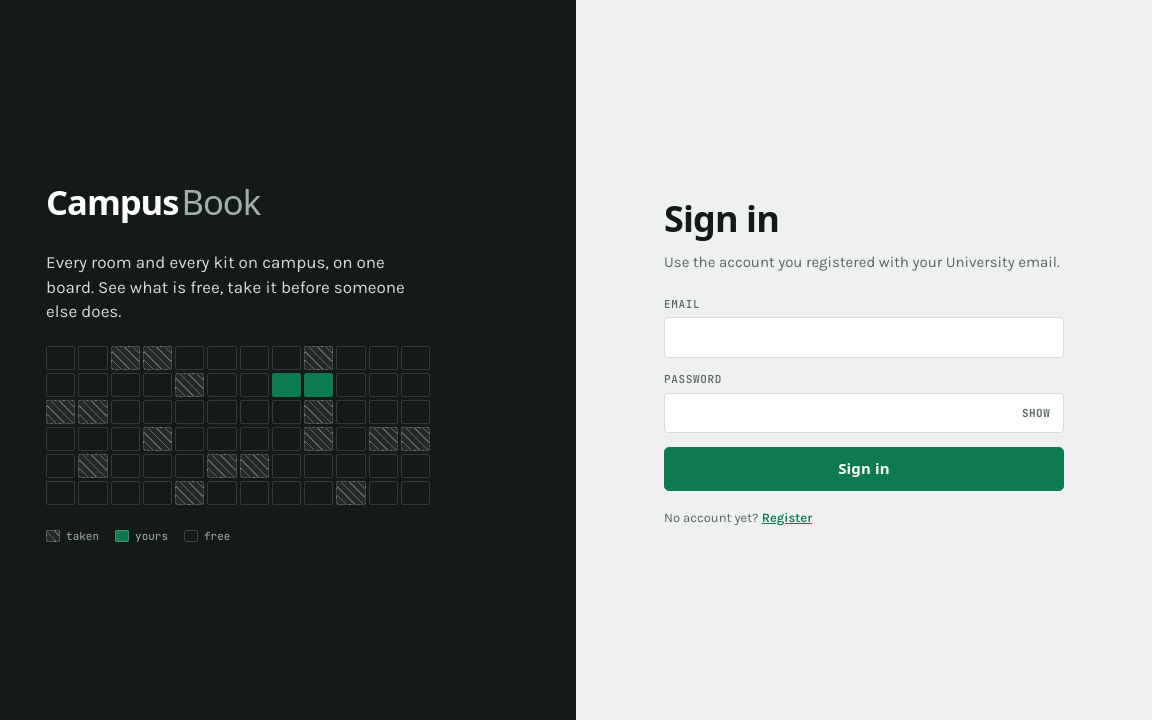
Test: booking a resource end to end › explains a mismatched password instead of just failing
Step 1. Click the link "Register" → [787, 518], box [762,510,812,525]
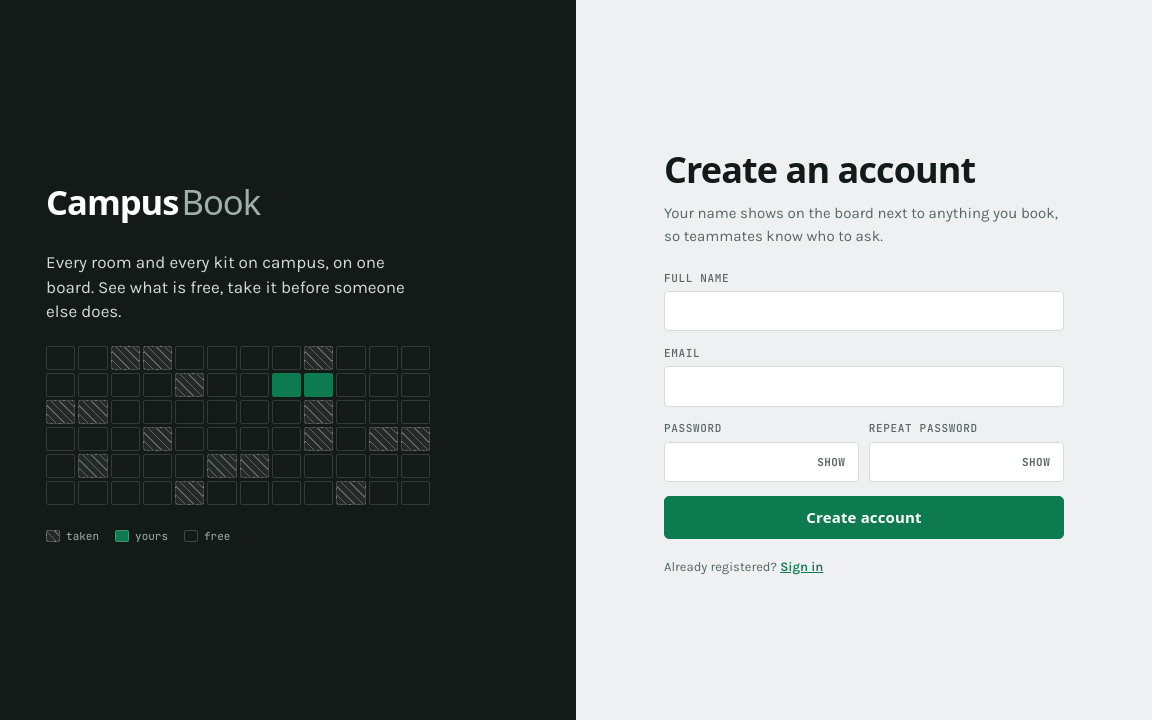
Step 2. Type "Shakya P" into the field labelled "Full name" → [864, 311], box [664,291,1064,331]
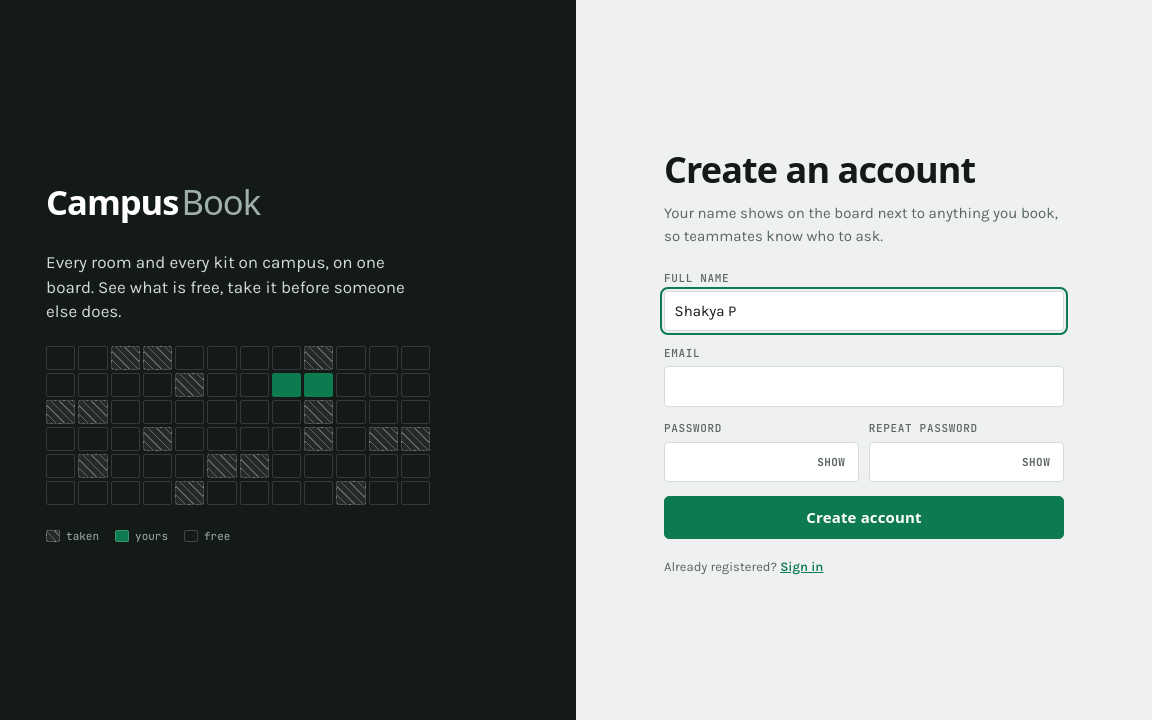
Step 3. Type "shakya@students.nsbm.ac.lk" into the field labelled "Email" → [864, 387], box [664,366,1064,407]
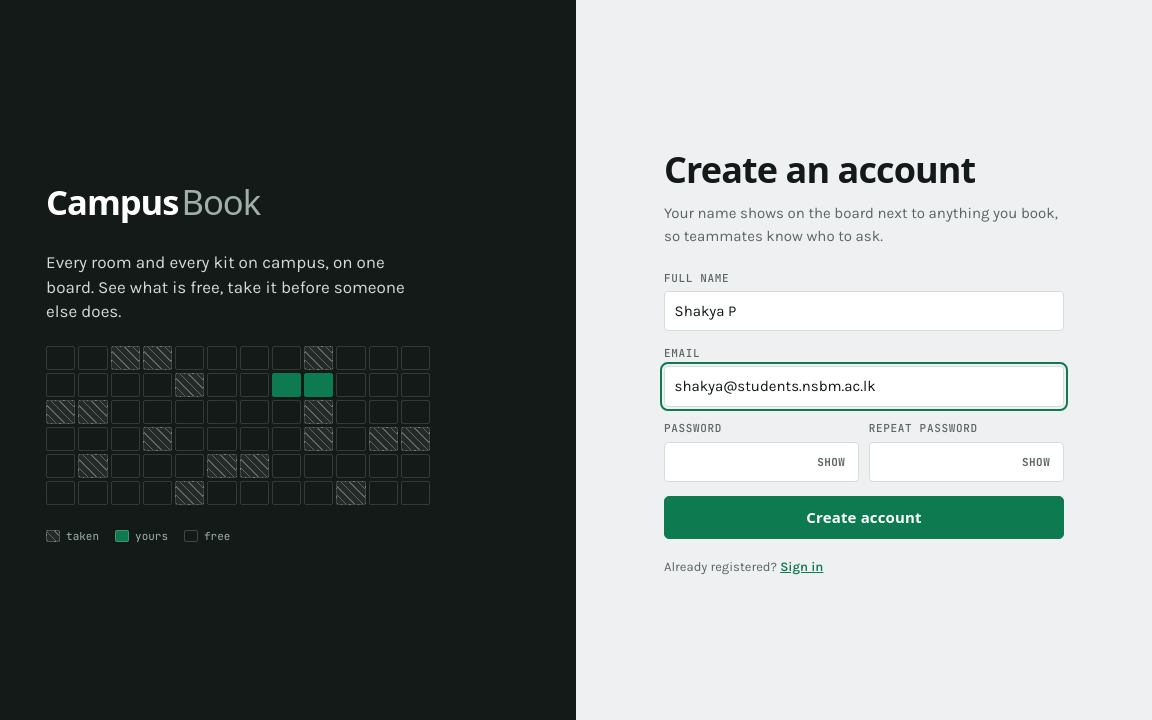
Step 4. Type "correct horse" into the password field labelled "Password Show" → [762, 462], box [664,442,859,482]
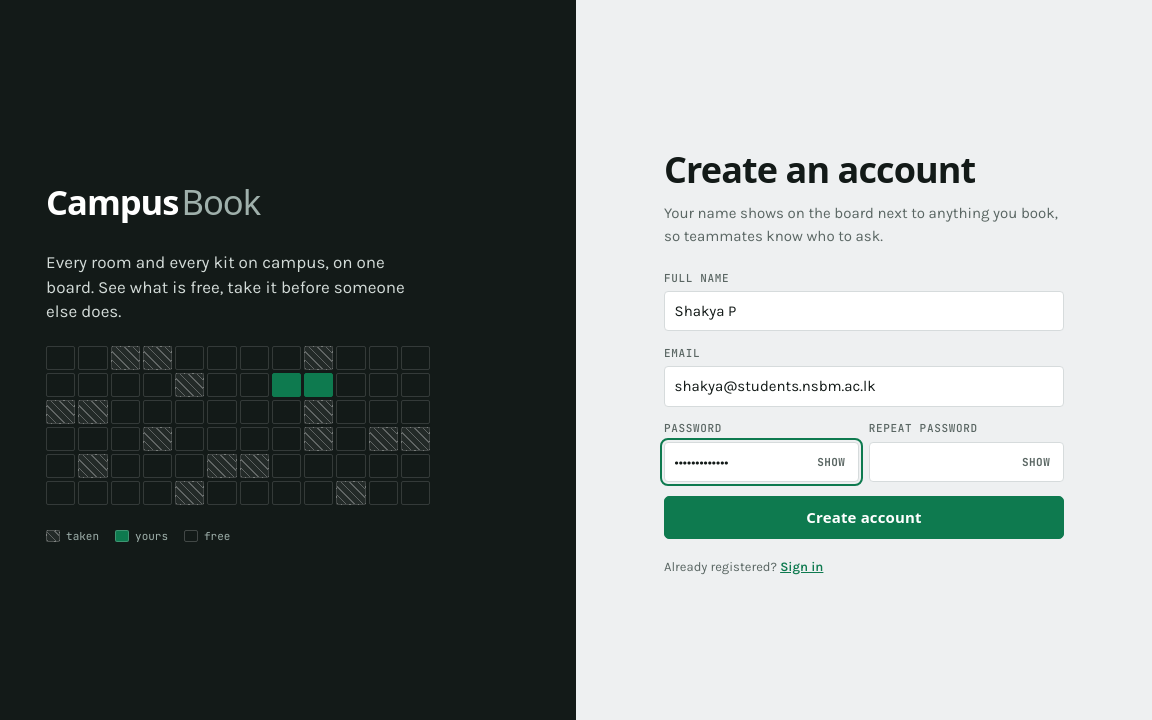
Step 5. Type "different" into the password field labelled "Repeat password Show" → [966, 462], box [869,442,1064,482]
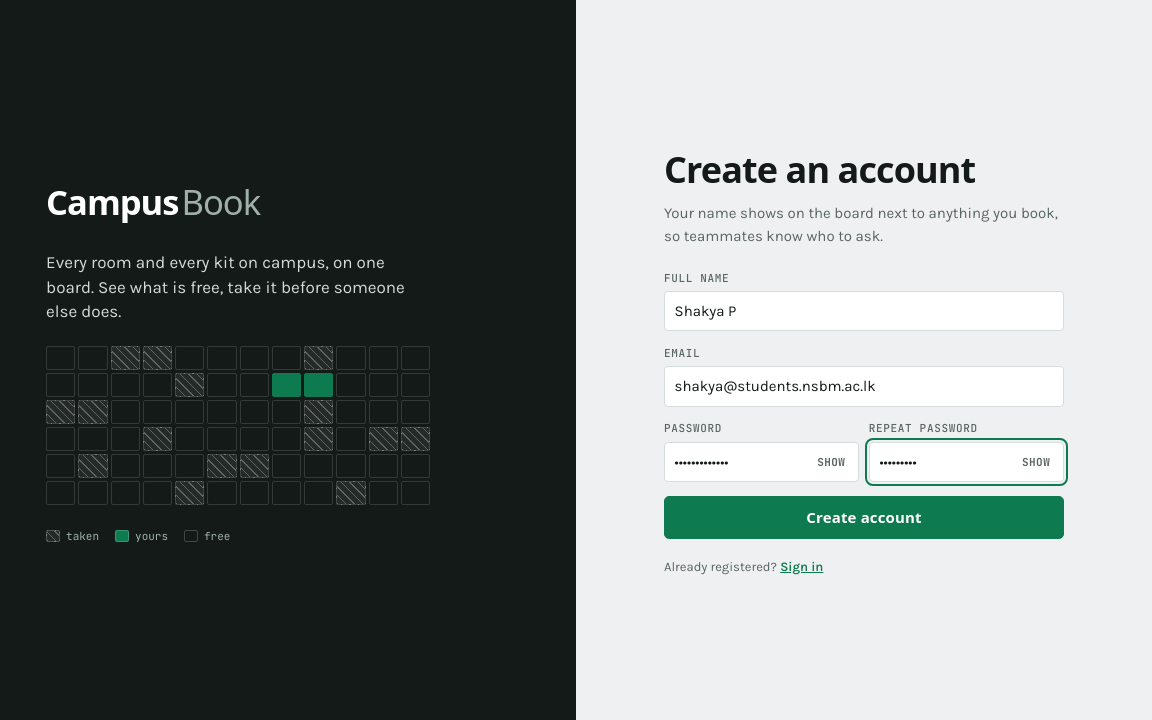
Step 6. Click the button "Create account" → [864, 518], box [664,496,1064,540]
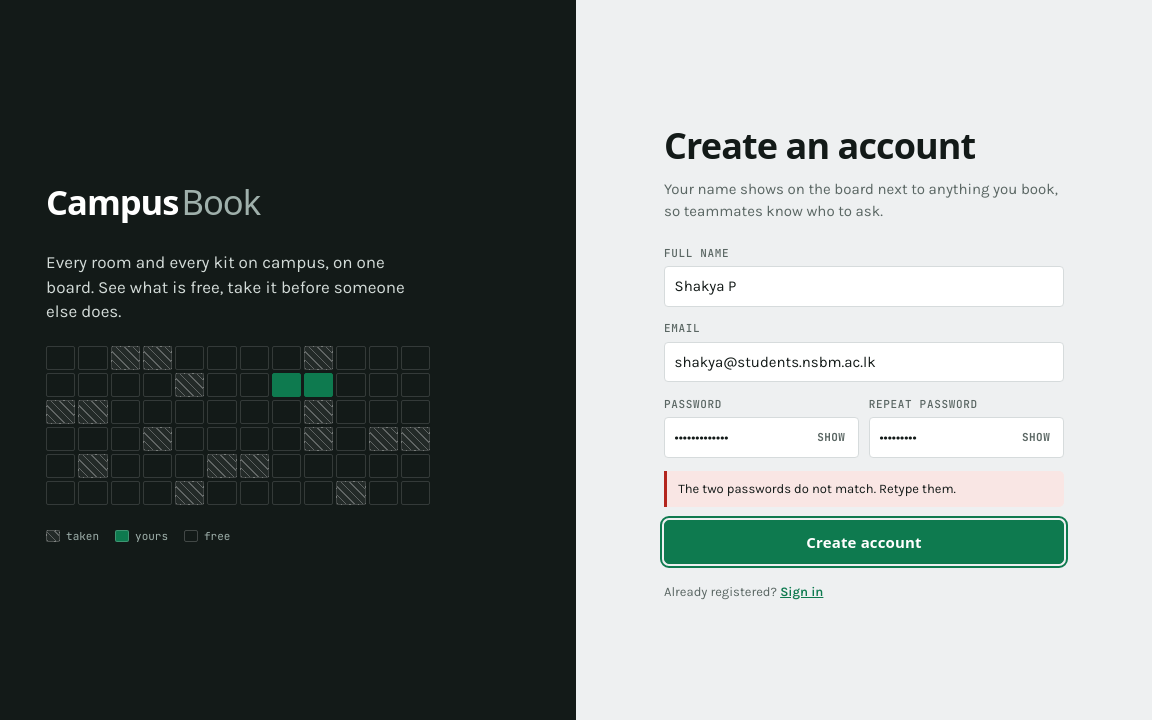
Expected: the message shows "do not match", [678,481,956,496]
